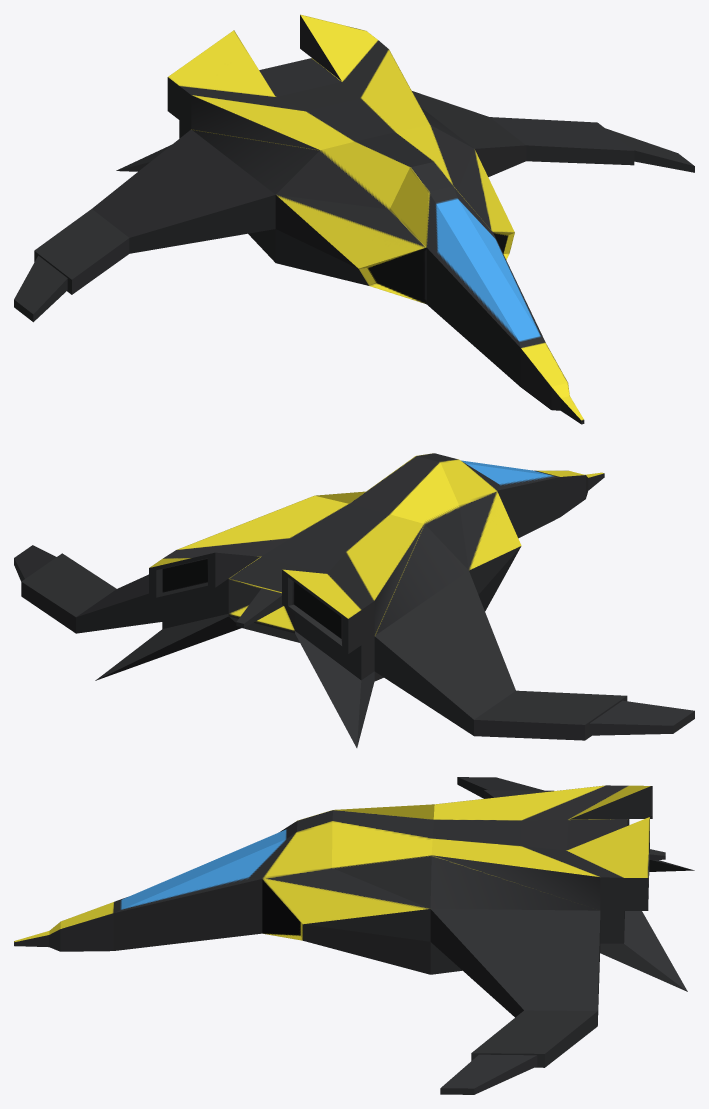
Rendered from NavePreta.fbx.
3 views of the same model, one above another, from view 1: azimuth 30°, elevation 25°; view 2: azimuth 150°, elevation 25°; view 3: azimuth 270°, elevation 25° (orthographic). The views are drawn at different scales.
Parts seen in each view (by area): view 1: pCube1; view 2: pCube1; view 3: pCube1.
Boxes of the visible parts, x1,y1,x2,y2 form: pCube1: [14, 14, 694, 424]; pCube1: [14, 453, 694, 747]; pCube1: [14, 777, 694, 1094].
Size of the model in its own units: 95.28 by 22.08 by 89.28.
